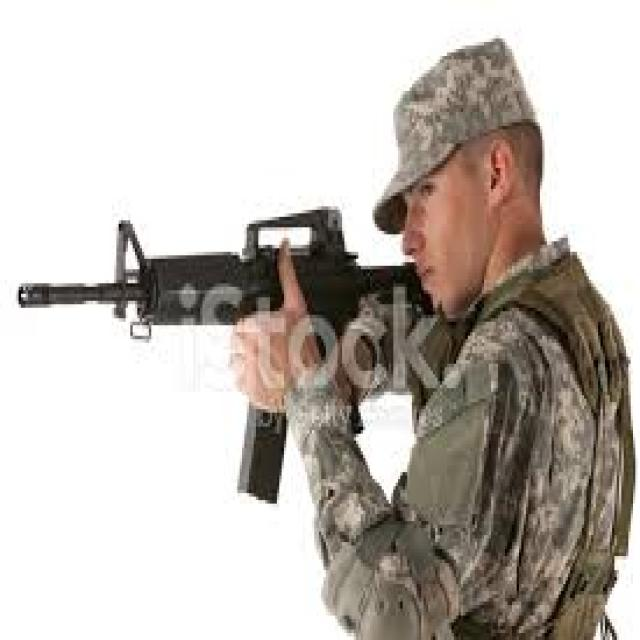soldier: (22, 42, 632, 640)
